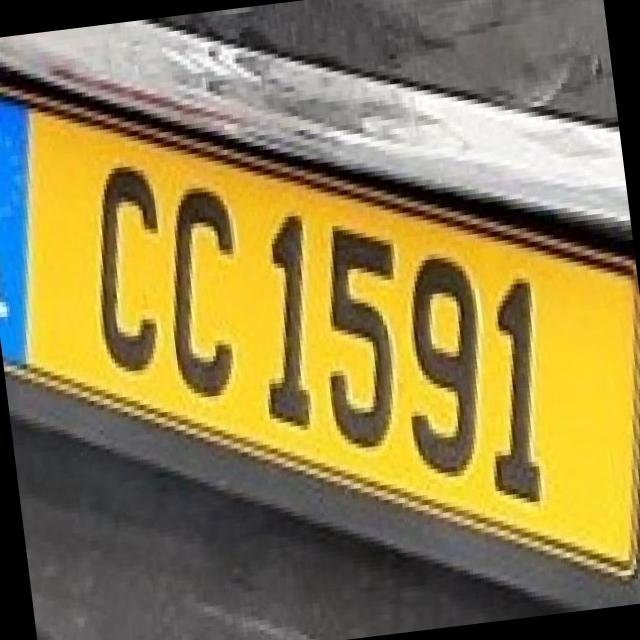1: (448, 256, 573, 514), (223, 189, 337, 441)
5: (291, 204, 421, 457)
9: (373, 229, 503, 487)
C: (134, 158, 261, 412), (60, 143, 182, 381)
